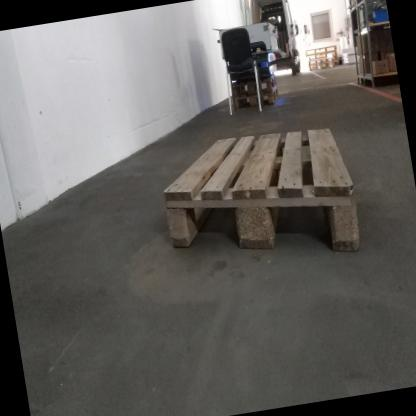BoxFace: (159, 120, 367, 257)
